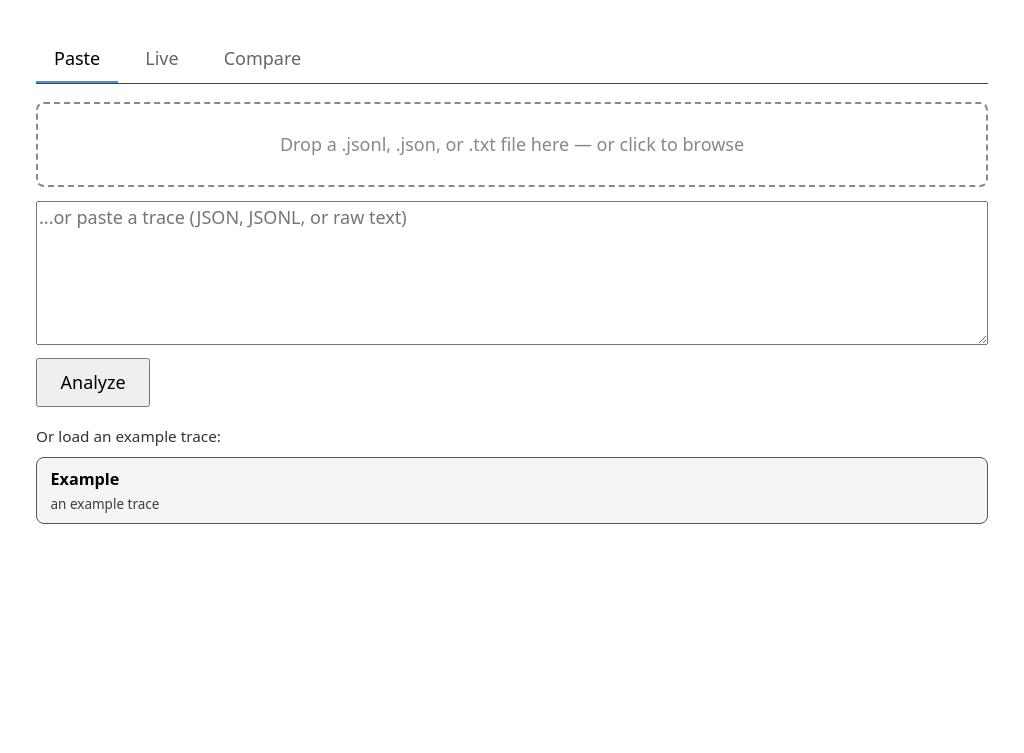
Test: App: single analyze pipeline › renders through the same pipeline for a gallery card click
Click the button with class "gallery-card": (85, 479) x1=36 y1=457 x2=988 y2=524
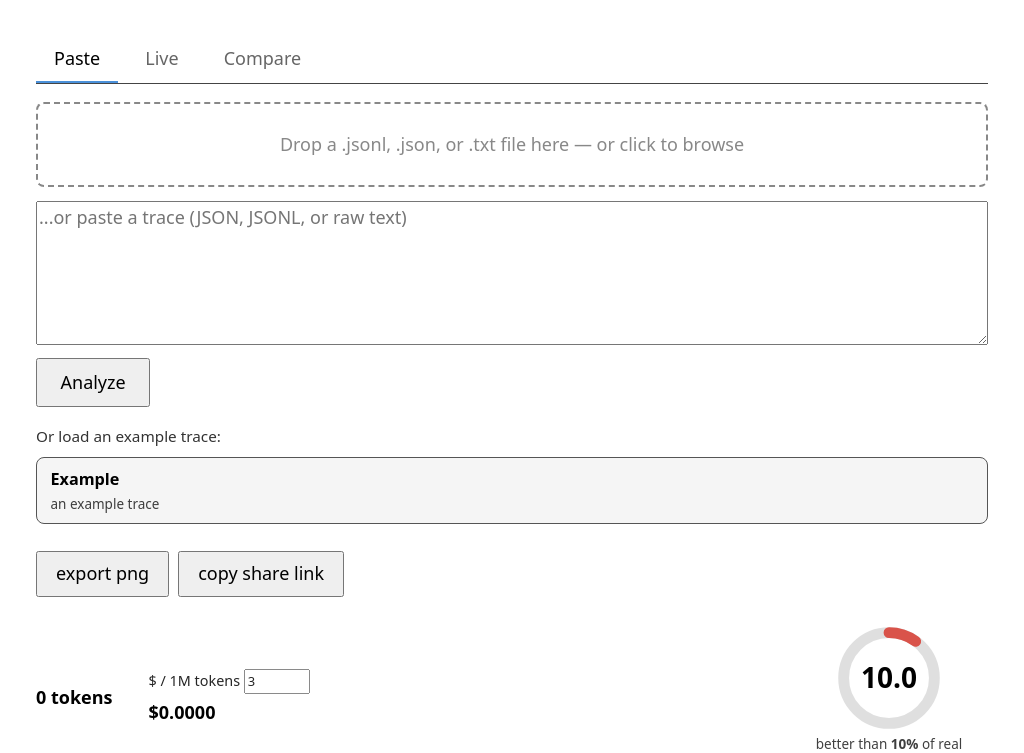
Check: the element with class "share-bar" is shown, box x1=36 y1=551 x2=344 y2=597
